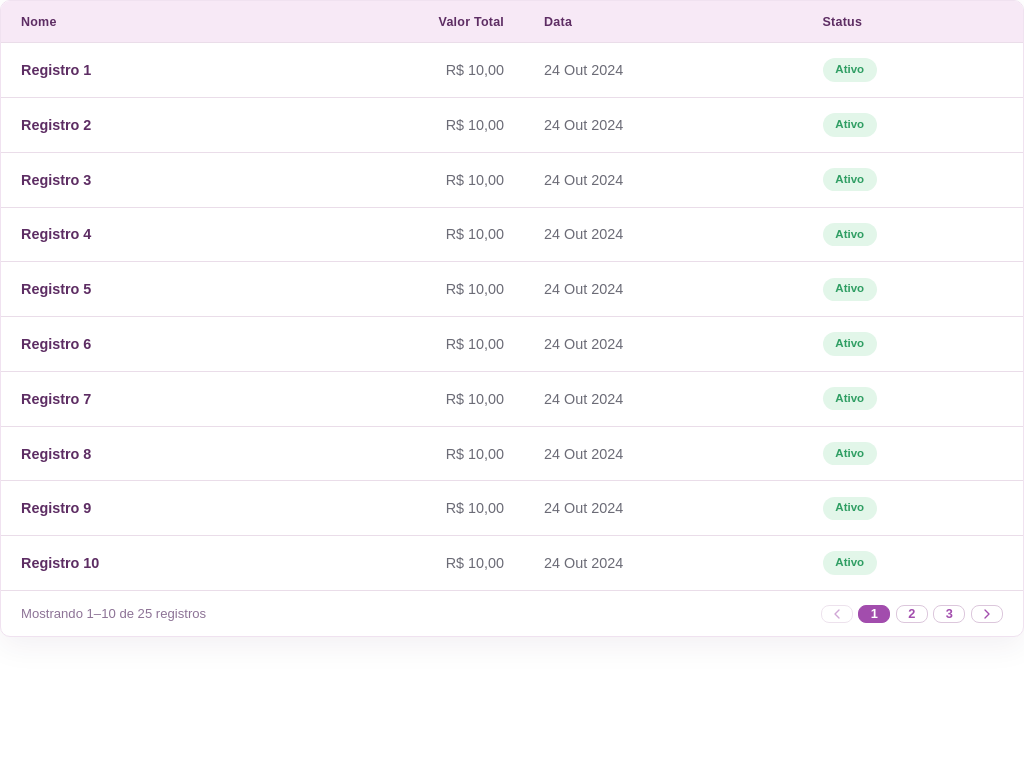
Scenario: TabelaComponent › pagina em 10 itens e navega entre as páginas
The width and height of the screenshot is (1024, 768).
Click the button "3" at (949, 614), box x1=933 y1=605 x2=965 y2=623
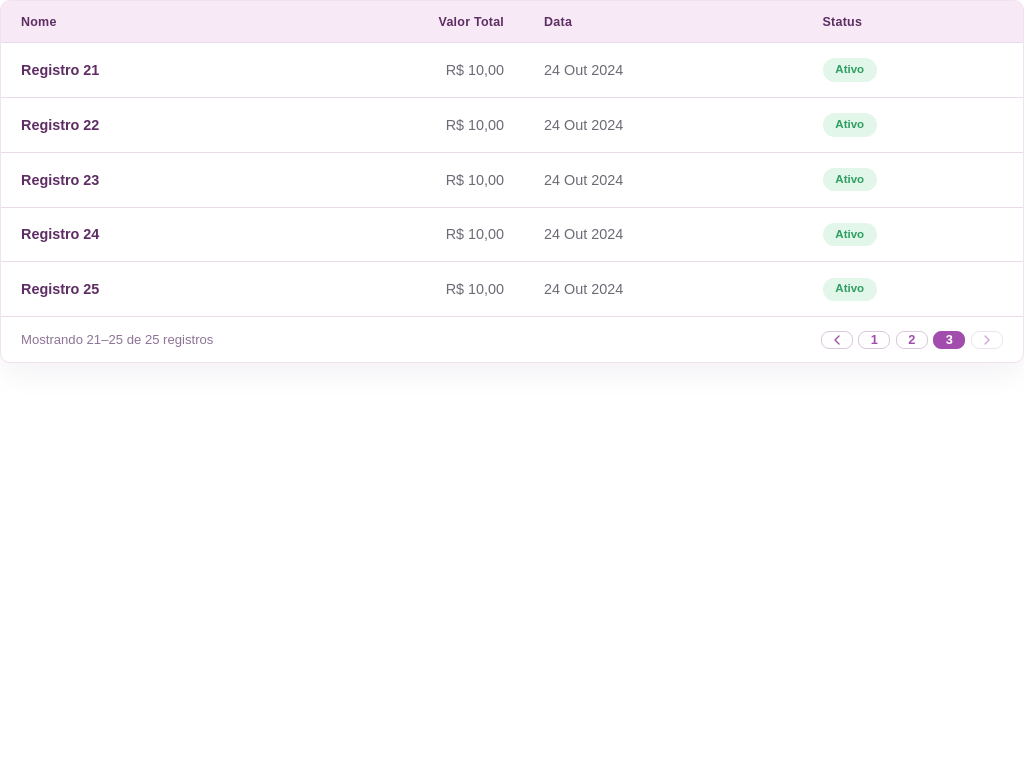
expect the number of rows with class "tabela__linha" is 5: met, box x1=1 y1=43 x2=1023 y2=98; x1=1 y1=98 x2=1023 y2=152; x1=1 y1=152 x2=1023 y2=207; x1=1 y1=207 x2=1023 y2=262; x1=1 y1=262 x2=1023 y2=316
expect the text with class "tabela__resumo" reads "Mostrando 21–25 de 25 registros": met, box x1=21 y1=332 x2=213 y2=347
Click the button named "Página anterior" at (837, 340), box x1=821 y1=331 x2=853 y2=349
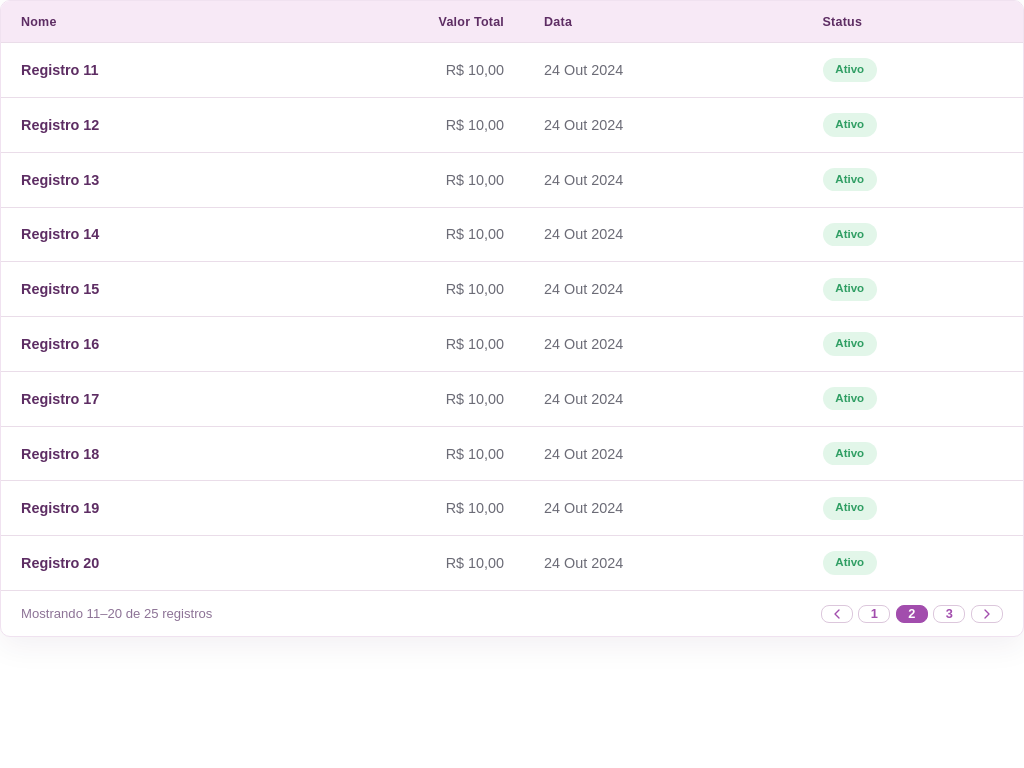
expect the text with class "tabela__resumo" reads "Mostrando 11–20 de 25 registros": met, box x1=21 y1=606 x2=212 y2=621
